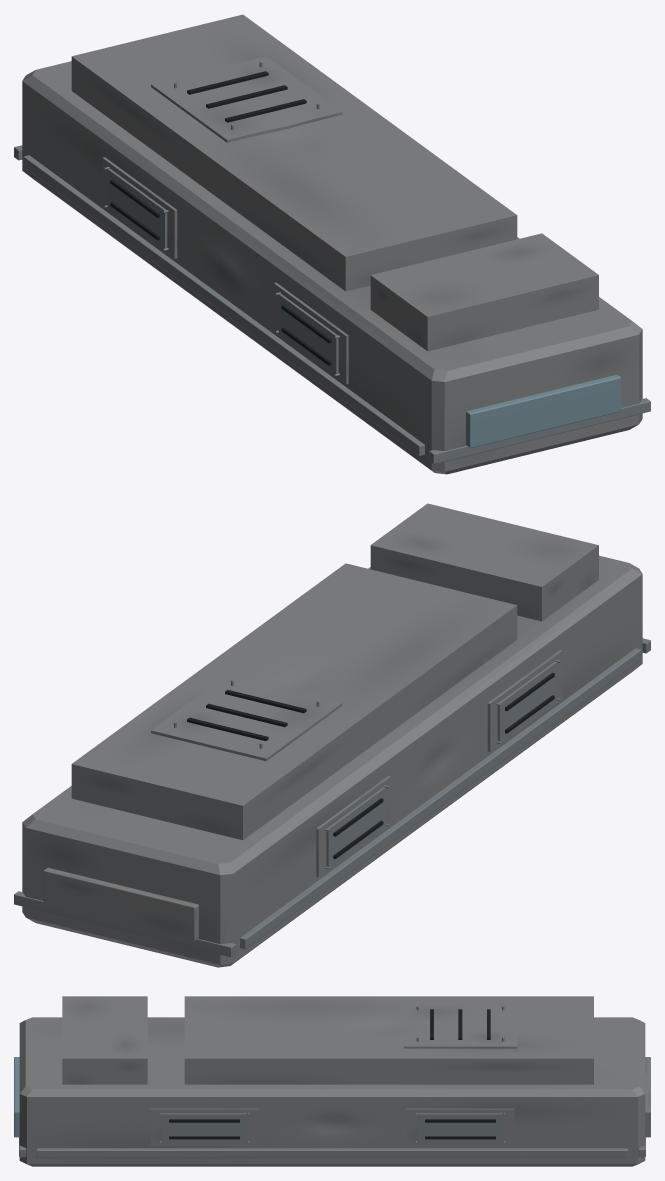
3 renders of one model, top to bottom at view 1: azimuth 30°, elevation 25°; view 2: azimuth 150°, elevation 25°; view 3: azimuth 270°, elevation 25°, orthographic. The views are drawn at different scales.
Visible parts, largest first — view 1: Type 1.5 chamfered low body, Type 1.5 aft raised deck, Type 1.5 fore raised deck, Type 1.5 deck hatch, Type 1.5 side seam strip -1, Type 1.5 end interface -1, Type 1.5 end seam strip -1, Type 1.5 grey inset -1 1, Type 1.5 grey inset -1 0, Type 1.5 service frame -1 0, Type 1.5 service frame -1 1; view 2: Type 1.5 chamfered low body, Type 1.5 aft raised deck, Type 1.5 fore raised deck, Type 1.5 deck hatch, Type 1.5 side seam strip -1, Type 1.5 end interface 1, Type 1.5 end seam strip 1, Type 1.5 grey inset -1 0, Type 1.5 grey inset -1 1, Type 1.5 service frame -1 1, Type 1.5 service frame -1 0; view 3: Type 1.5 chamfered low body, Type 1.5 aft raised deck, Type 1.5 fore raised deck, Type 1.5 side seam strip 1, Type 1.5 deck hatch, Type 1.5 grey inset 1 0, Type 1.5 grey inset 1 1, Type 1.5 service frame 1 0, Type 1.5 service frame 1 1, Type 1.5 end interface -1, Type 1.5 end interface 1, Type 1.5 dark service strip 1 0 0 (+3 smaller).
Boxes of the visible parts, x1,y1,x2,y2 form: Type 1.5 chamfered low body: (22, 61, 642, 474); Type 1.5 aft raised deck: (71, 14, 517, 291); Type 1.5 fore raised deck: (370, 233, 598, 351); Type 1.5 deck hatch: (151, 56, 342, 142); Type 1.5 side seam strip -1: (23, 155, 424, 455); Type 1.5 end interface -1: (466, 374, 621, 448); Type 1.5 end seam strip -1: (429, 398, 650, 464); Type 1.5 grey inset -1 1: (107, 168, 167, 248); Type 1.5 grey inset -1 0: (279, 294, 338, 373); Type 1.5 service frame -1 0: (273, 282, 348, 384); Type 1.5 service frame -1 1: (102, 157, 177, 258); Type 1.5 chamfered low body: (22, 555, 642, 967); Type 1.5 aft raised deck: (71, 563, 517, 840); Type 1.5 fore raised deck: (370, 503, 598, 621); Type 1.5 deck hatch: (151, 674, 342, 761); Type 1.5 side seam strip -1: (240, 648, 641, 949); Type 1.5 end interface 1: (43, 867, 198, 941); Type 1.5 end seam strip 1: (14, 891, 235, 957); Type 1.5 grey inset -1 0: (497, 661, 557, 741); Type 1.5 grey inset -1 1: (326, 787, 385, 866); Type 1.5 service frame -1 1: (316, 775, 391, 877); Type 1.5 service frame -1 0: (487, 650, 562, 751); Type 1.5 chamfered low body: (19, 1017, 645, 1166); Type 1.5 aft raised deck: (184, 996, 593, 1084); Type 1.5 fore raised deck: (62, 996, 147, 1084); Type 1.5 side seam strip 1: (37, 1148, 627, 1157); Type 1.5 deck hatch: (403, 1004, 517, 1048); Type 1.5 grey inset 1 0: (162, 1113, 247, 1142); Type 1.5 grey inset 1 1: (417, 1113, 502, 1142); Type 1.5 service frame 1 0: (150, 1108, 258, 1145); Type 1.5 service frame 1 1: (406, 1108, 514, 1145); Type 1.5 end interface -1: (14, 1057, 19, 1137); Type 1.5 end interface 1: (645, 1057, 650, 1137); Type 1.5 dark service strip 1 0 0: (169, 1136, 239, 1139).
Bounding box in the file's own units: 0.684 × 0.422 × 2.24.
Materials: 4 (1 with a texture image).
